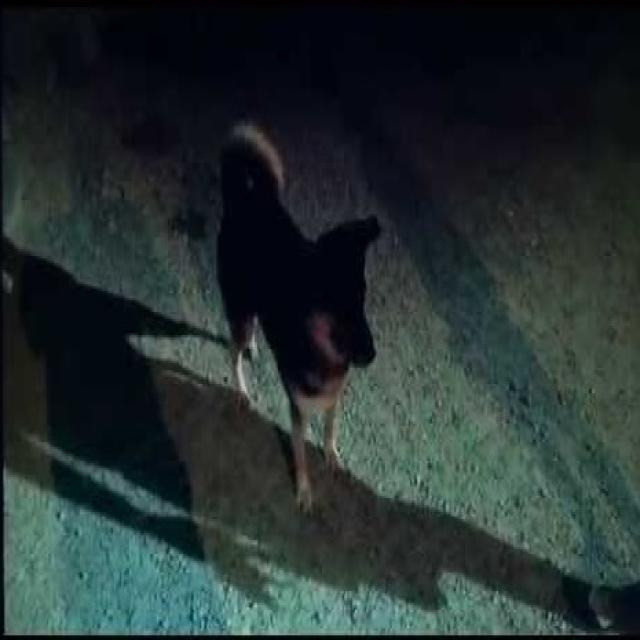Dog: (198, 127, 390, 528)
